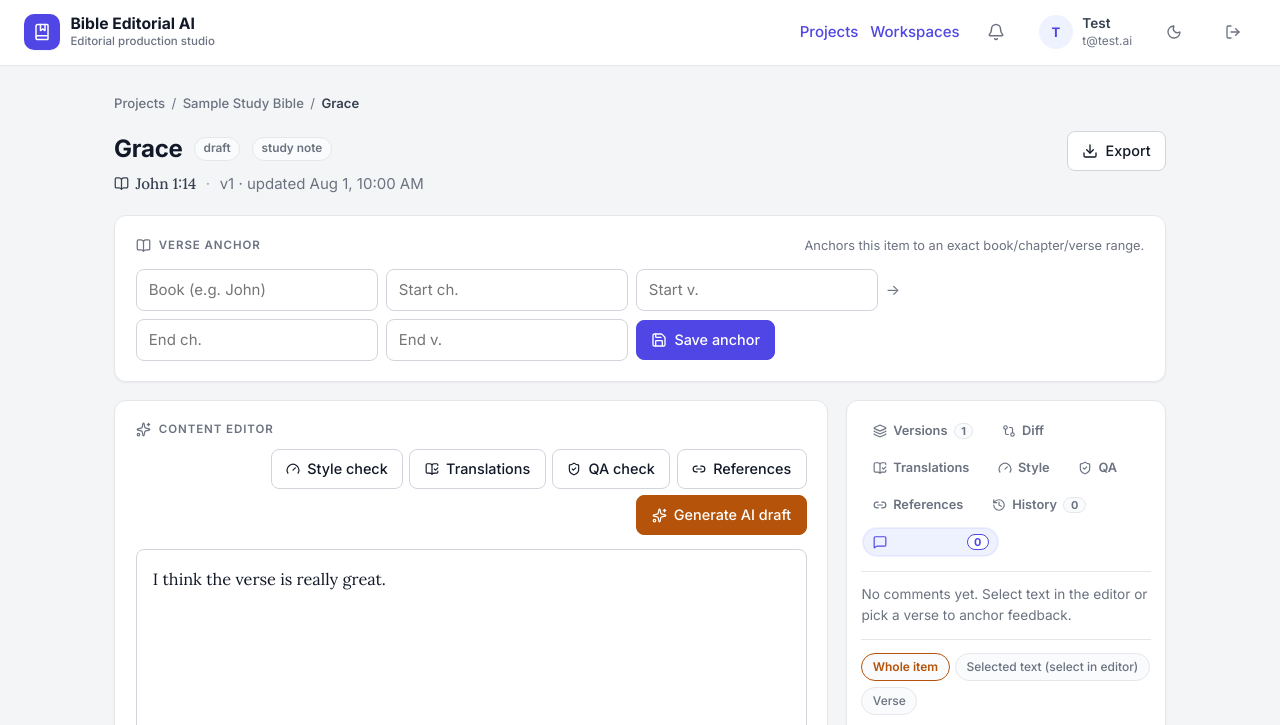
Editor style-guide check › applies style fixes and updates the editor body
Expected: the heading "Grace" is shown, [114,131,183,167]
Click the button "Style check": [337, 469] box [271,449,403,489]
(page scrolled)
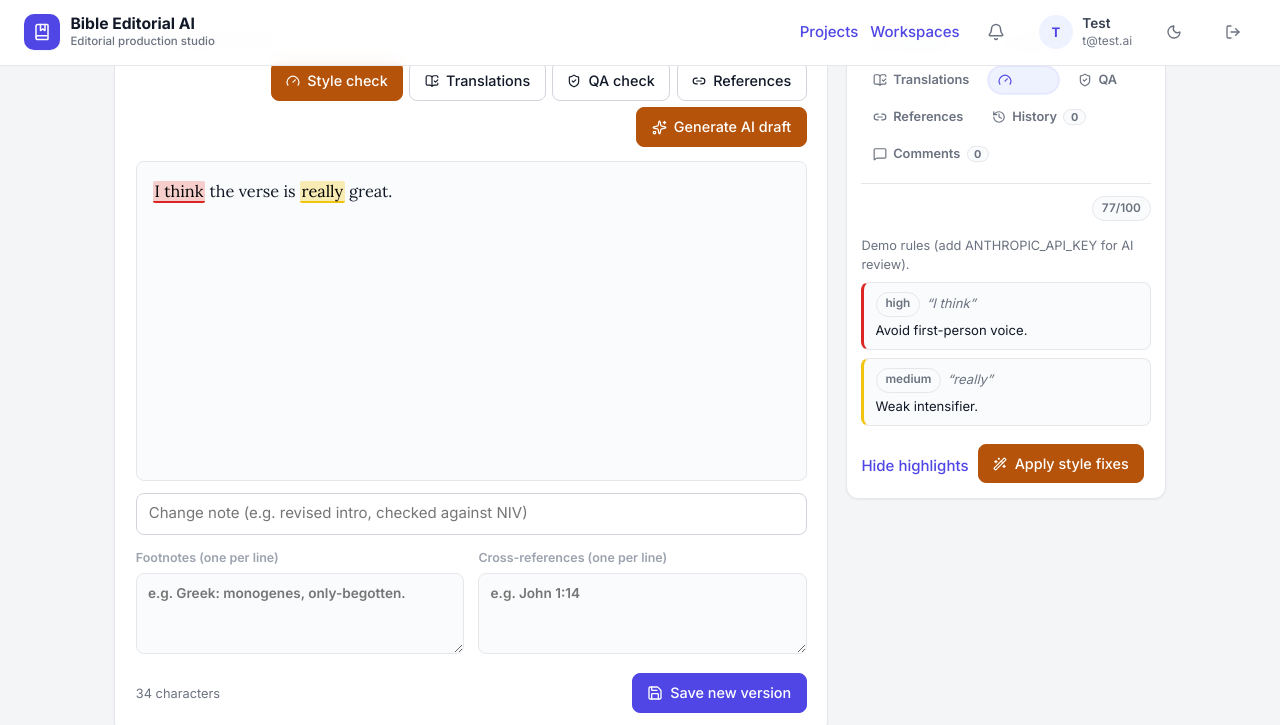
Result: the text "77/100" is shown at [1102,200,1141,218]
Result: the button "Apply style fixes" is shown
Click the button "Apply style fixes": [1061, 464] box [978,444,1144,483]
(page scrolled)
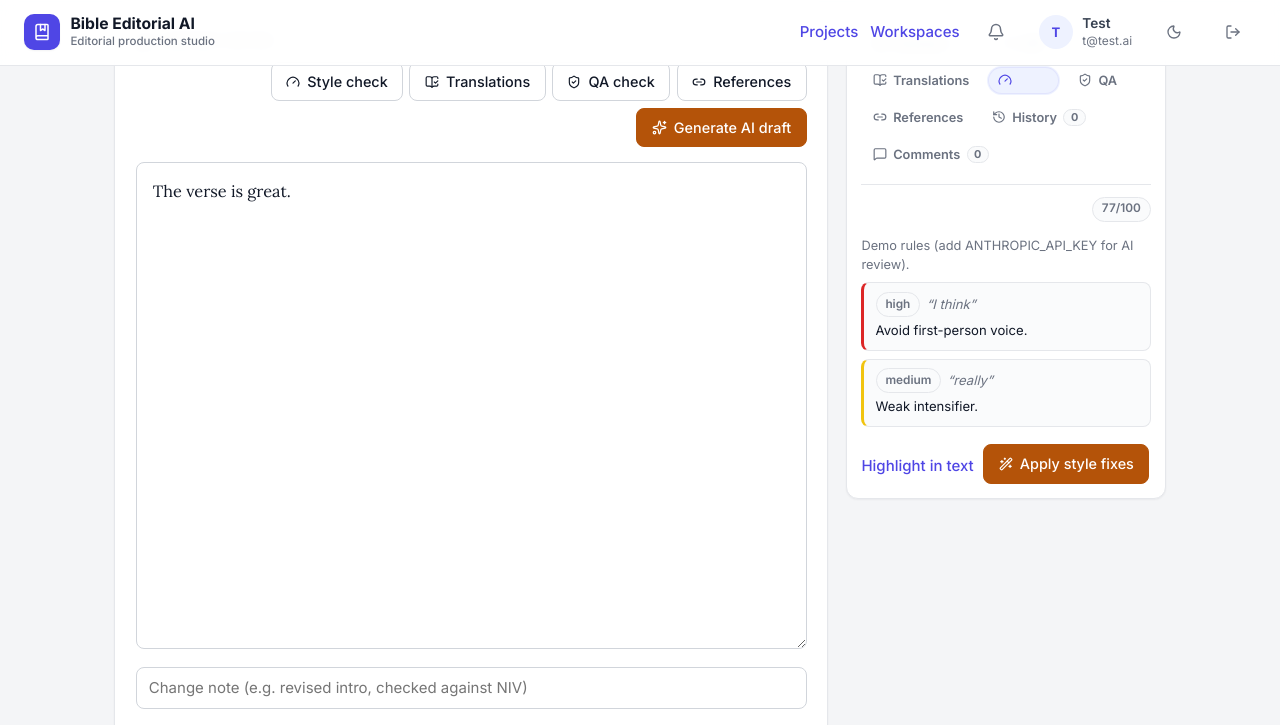
Result: the text box with placeholder "Write or edit content here. The project style guide will guide AI drafts." holds "The verse is great." at [136,162,807,649]
